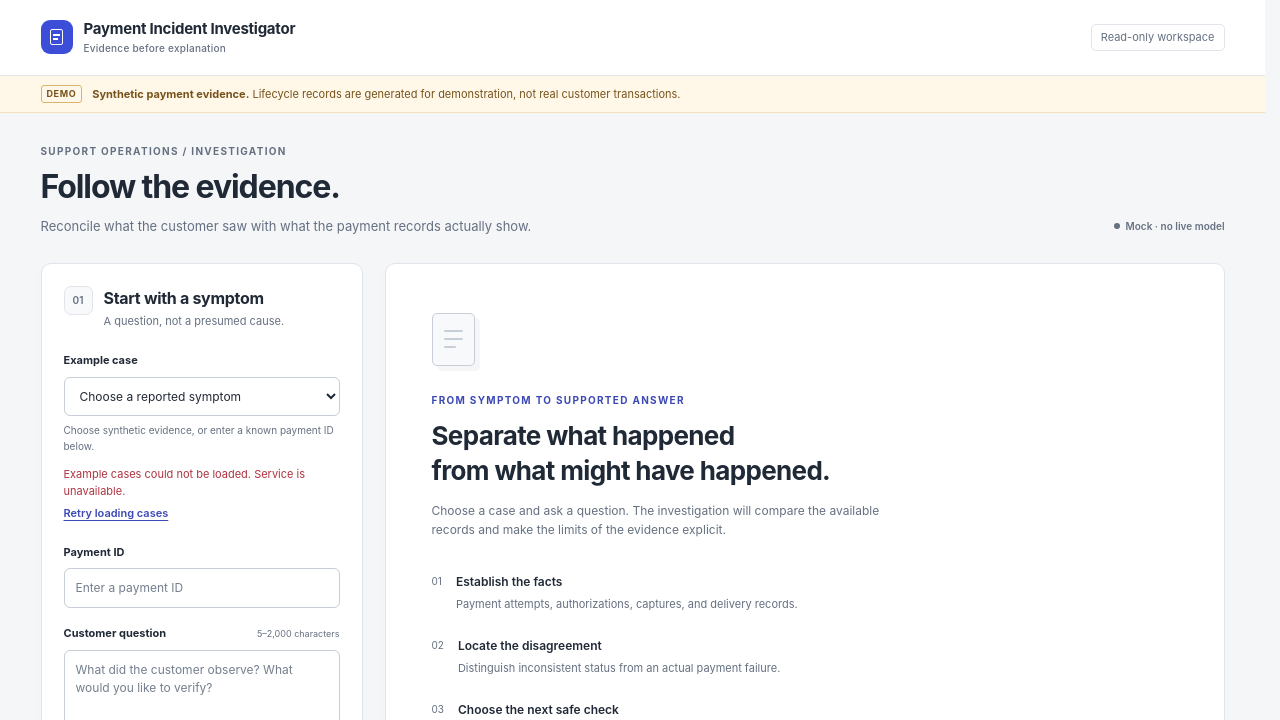
Test: investigation workspace (mocked API) › recovers from case loading errors while retaining manual input
Expected: the message shows "Example cases could not be loaded.", x1=64 y1=467 x2=254 y2=481
Expected: the field labelled "Payment ID" is enabled, x1=64 y1=568 x2=340 y2=608
Click the button "Retry loading cases". click: {"x": 116, "y": 514}
box: x1=64 y1=501 x2=168 y2=526
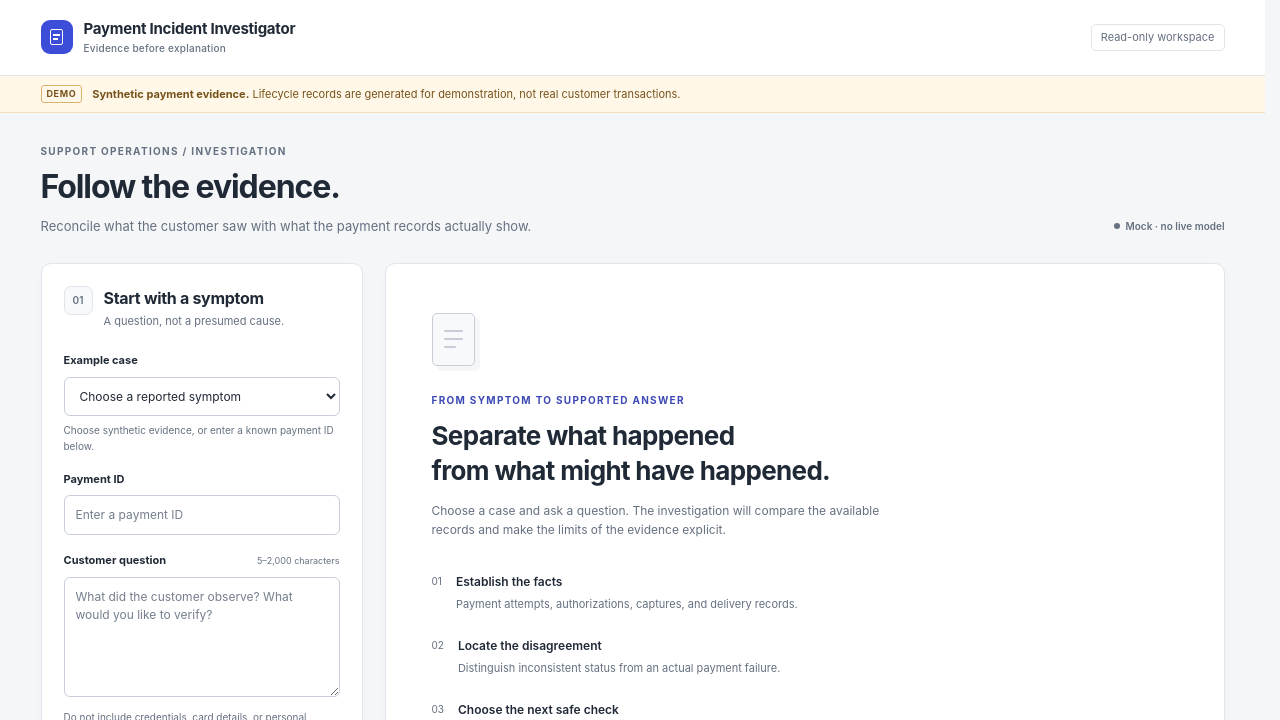
Select "The customer saw failed at checkout but received a receipt. · pay_1042" in the dropdown labelled "Example case". click: {"x": 202, "y": 396}
box: x1=64 y1=377 x2=340 y2=416
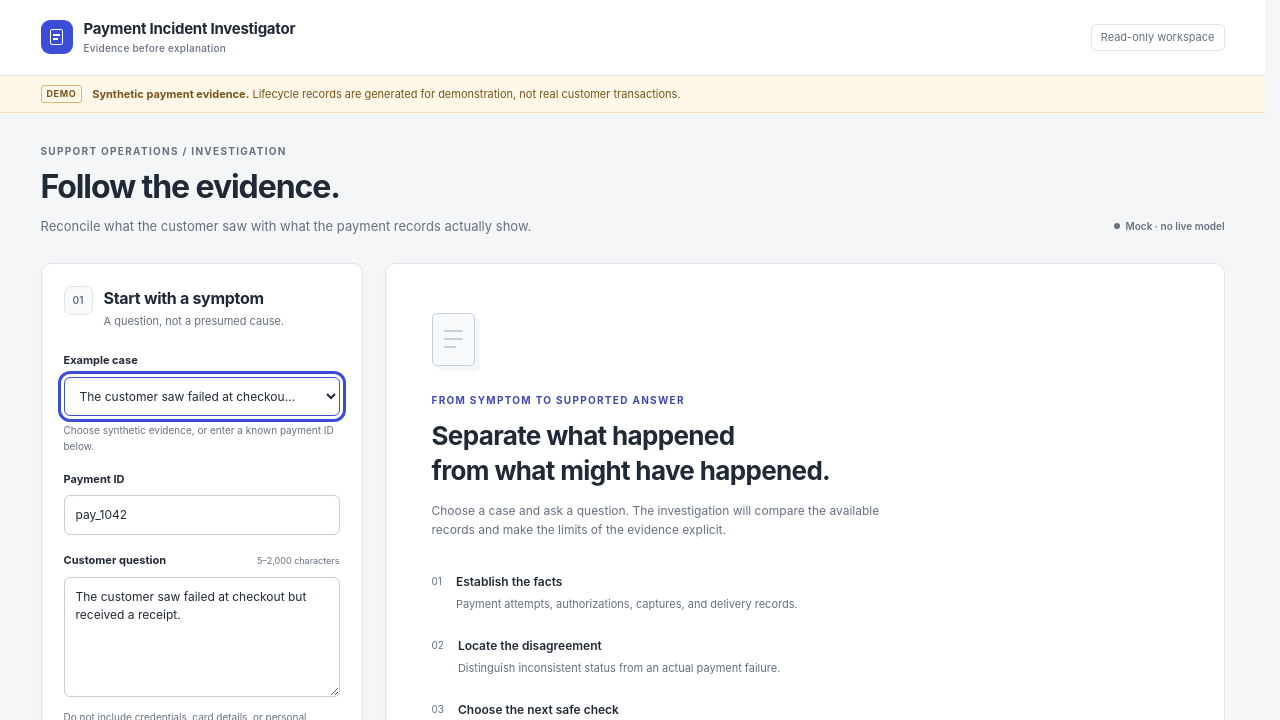
Now the field labelled "Payment ID" holds "pay_1042", box x1=64 y1=495 x2=340 y2=535
